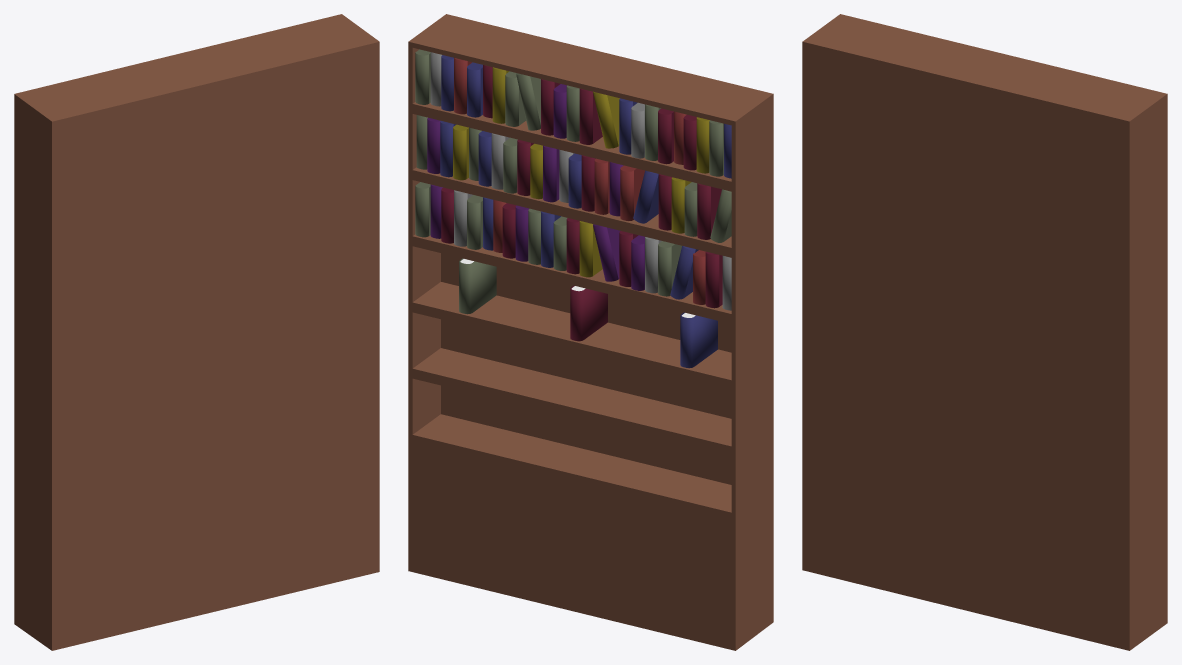
The model's file is SM_Bookshelf.fbx.
The picture shows the model from 3 angles, left to right: view 1: azimuth 30°, elevation 25°; view 2: azimuth 150°, elevation 25°; view 3: azimuth 330°, elevation 25°; orthographic projection.
Visible parts, largest first — view 1: Bookshelf; view 2: Bookshelf, Books, PullBook3, PullBook2, PullBook1; view 3: Bookshelf.
Boxes of the visible parts, x1=… form: Bookshelf: x1=14, y1=14, x2=379, y2=650; Bookshelf: x1=408, y1=14, x2=773, y2=650; Books: x1=415, y1=49, x2=731, y2=310; PullBook3: x1=680, y1=312, x2=717, y2=368; PullBook2: x1=570, y1=285, x2=607, y2=341; PullBook1: x1=459, y1=258, x2=496, y2=314; Bookshelf: x1=802, y1=14, x2=1167, y2=650.
Bounding box in the file's own units: 173 × 267 × 34.57.
